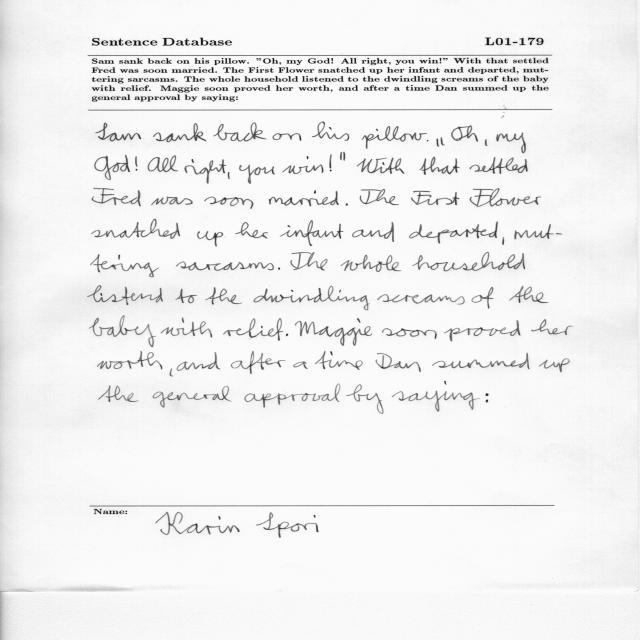word: (254, 286, 370, 311), (392, 381, 480, 412), (244, 384, 340, 408), (295, 318, 372, 346), (412, 253, 525, 272), (89, 316, 157, 347), (409, 222, 498, 244), (92, 219, 180, 239), (444, 320, 521, 342), (152, 386, 232, 407), (432, 353, 530, 370), (280, 220, 344, 246), (91, 255, 159, 278), (362, 126, 429, 149), (87, 286, 163, 305), (224, 318, 284, 341), (470, 188, 541, 207), (231, 351, 286, 374), (98, 351, 163, 370), (346, 384, 384, 414), (269, 191, 339, 207), (496, 116, 526, 153), (184, 159, 226, 184), (341, 255, 402, 272), (153, 123, 207, 142), (213, 123, 267, 142), (161, 318, 212, 338), (470, 157, 528, 174), (176, 261, 274, 271), (377, 294, 465, 305), (315, 351, 363, 370), (92, 188, 141, 206), (95, 155, 130, 180), (96, 123, 141, 142), (376, 353, 421, 372), (352, 222, 394, 242), (177, 352, 221, 371), (357, 157, 405, 174), (312, 121, 349, 141), (283, 156, 324, 174), (419, 157, 460, 175), (515, 224, 563, 239), (411, 191, 460, 205), (239, 165, 275, 184), (99, 385, 139, 402), (531, 319, 573, 335), (291, 253, 328, 271), (205, 287, 242, 305), (509, 286, 548, 303), (204, 196, 254, 209), (360, 189, 399, 205), (382, 328, 437, 339), (236, 222, 269, 238), (148, 156, 178, 173), (472, 287, 494, 309), (451, 125, 478, 142), (539, 359, 570, 373), (197, 231, 223, 247), (151, 197, 193, 205), (176, 289, 198, 303), (273, 133, 302, 141), (293, 361, 308, 369), (329, 154, 332, 172), (135, 156, 138, 171), (340, 152, 345, 161), (440, 138, 445, 146), (486, 393, 489, 403), (170, 368, 173, 377), (436, 139, 439, 147), (485, 139, 488, 146), (502, 237, 504, 245), (228, 172, 230, 179), (346, 203, 348, 206), (278, 267, 280, 270), (286, 334, 288, 336)
